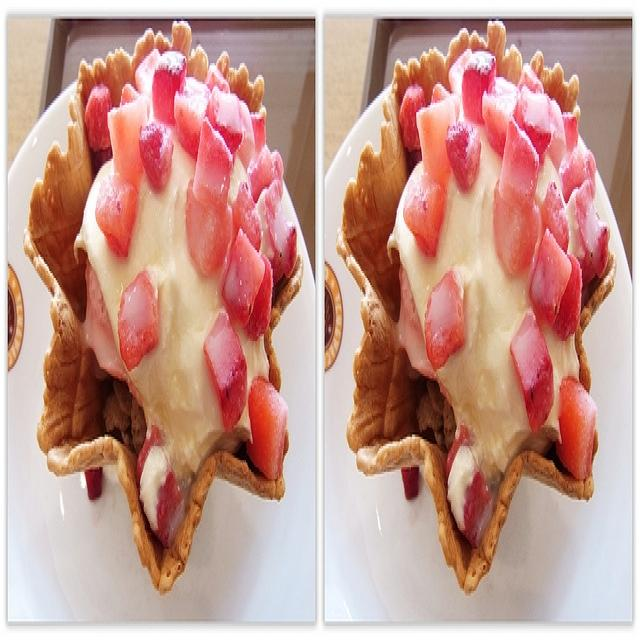蛋糕甜品: (22, 12, 612, 628)
